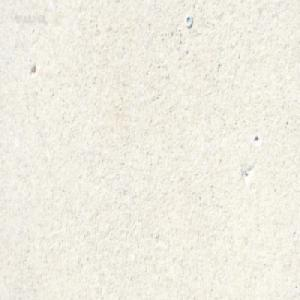Washer: (184, 13, 192, 28)
